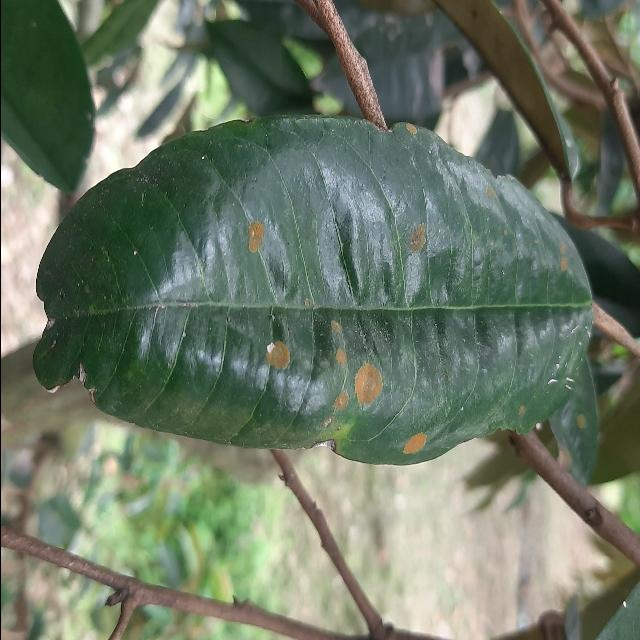Algal Leaf Spot: (29, 106, 605, 475)
